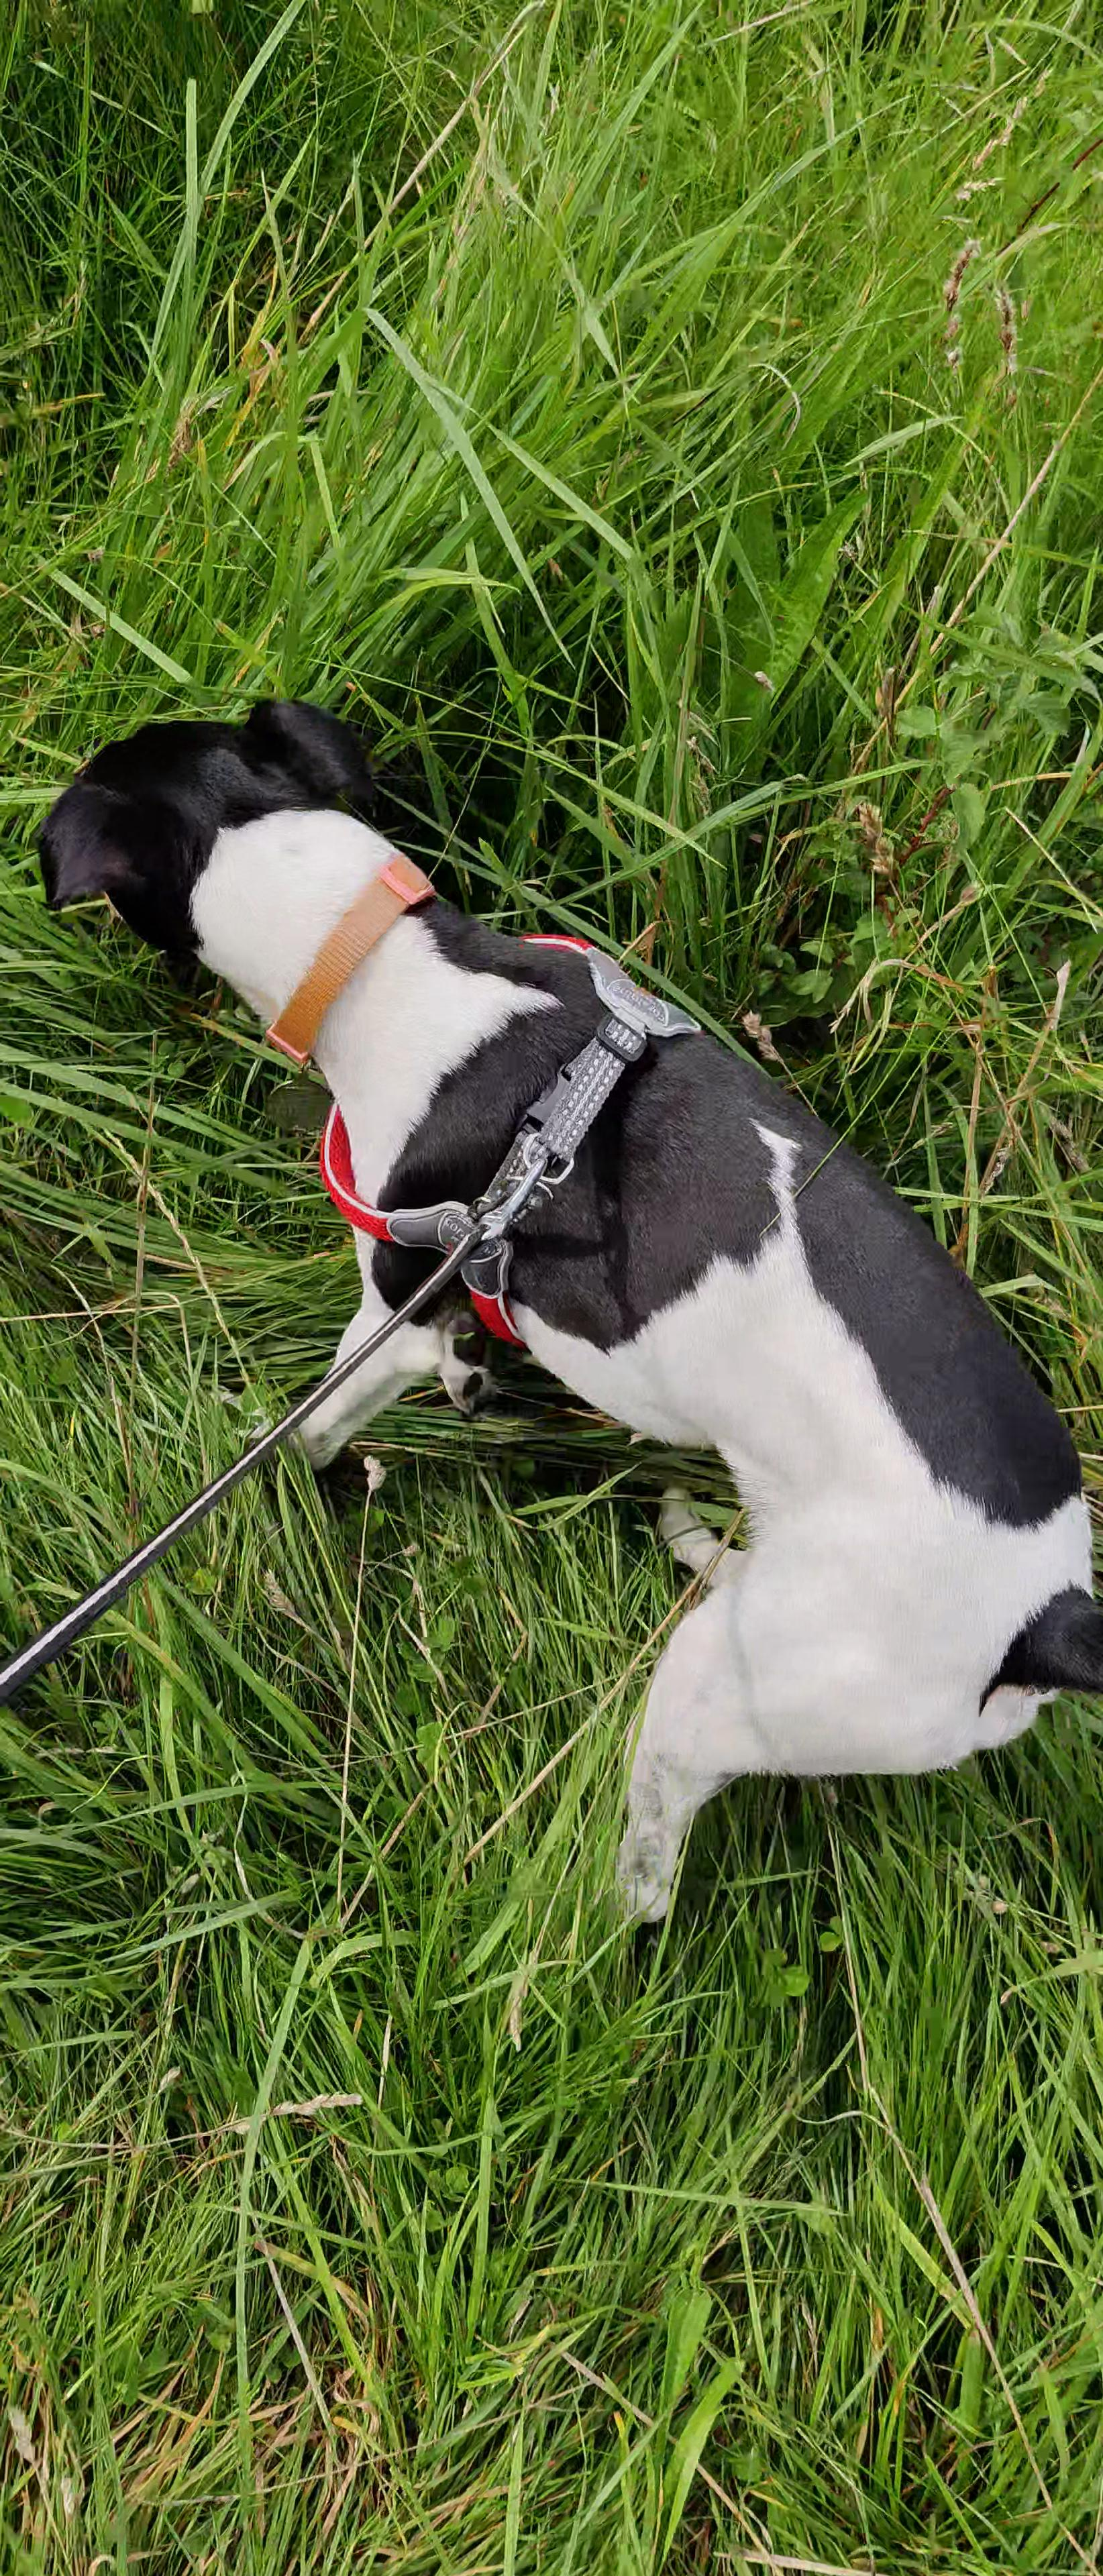Dog: (26, 669, 1103, 1945)
